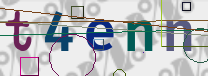4: (43, 10, 75, 53)
e: (84, 17, 116, 52)
n: (124, 19, 154, 53), (164, 19, 193, 53)
t: (5, 9, 34, 52)
